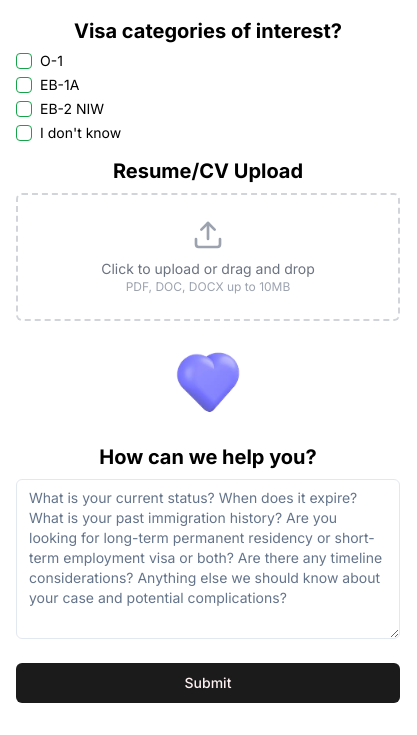
Scenario: AssessmentPage Form Validation › should show error for invalid first name
This screenshot has width=417, height=735.
(page scrolled)
Click the button "Submit". click: (208, 682)
box: [16,662,400,702]
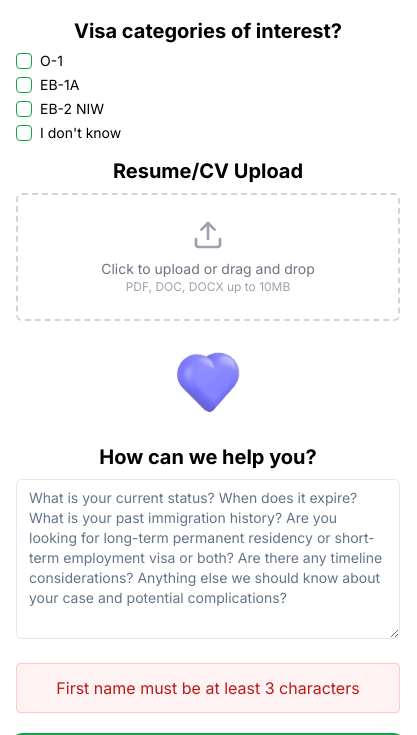
Now the text "First name must be at least 3 characters" is shown, box [16,662,400,712]
